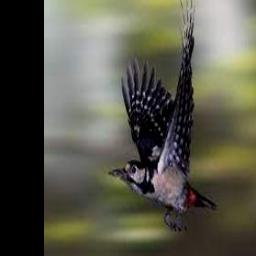Woodpecker: (108, 0, 217, 230)
